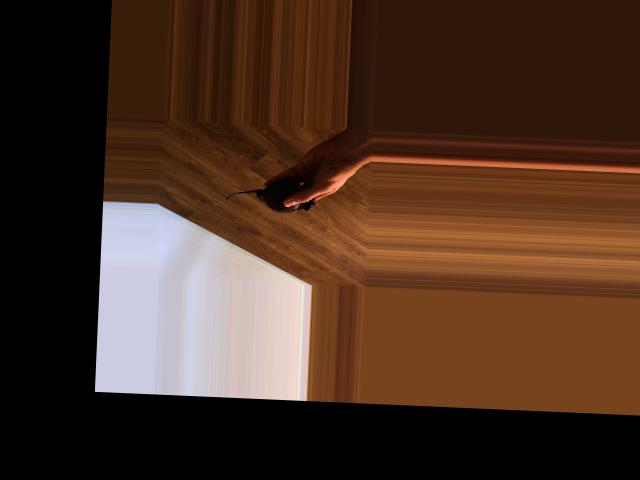beet: (224, 177, 315, 213)
